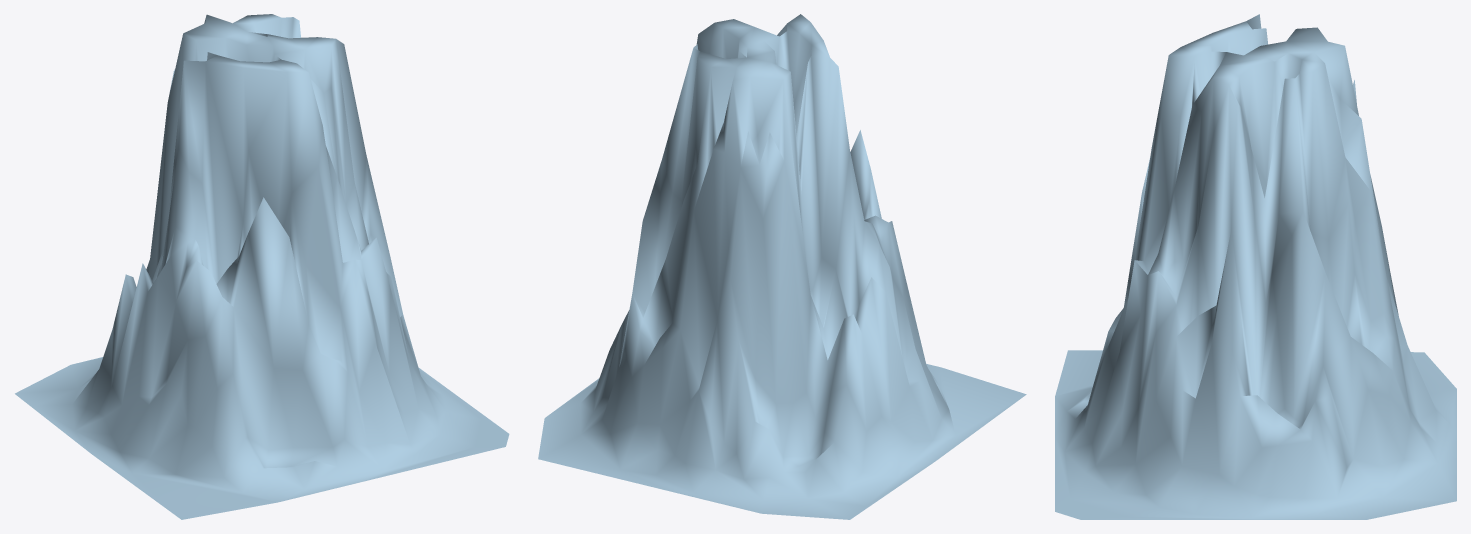
File: Niflheim_Boundary_Iceberg.glb
3 renders of one model, left to right at view 1: azimuth 30°, elevation 25°; view 2: azimuth 150°, elevation 25°; view 3: azimuth 270°, elevation 25°, orthographic. The views are drawn at different scales.
Parts seen in each view (by area): view 1: Niflheim boundary iceberg; view 2: Niflheim boundary iceberg; view 3: Niflheim boundary iceberg.
Boxes of the visible parts, x1,y1,x2,y2 form: Niflheim boundary iceberg: (15, 14, 509, 519); Niflheim boundary iceberg: (538, 14, 1026, 519); Niflheim boundary iceberg: (1055, 14, 1456, 519).
Bounding box in the file's own units: 1 × 1.06 × 1.
1 material, 1 textured.
